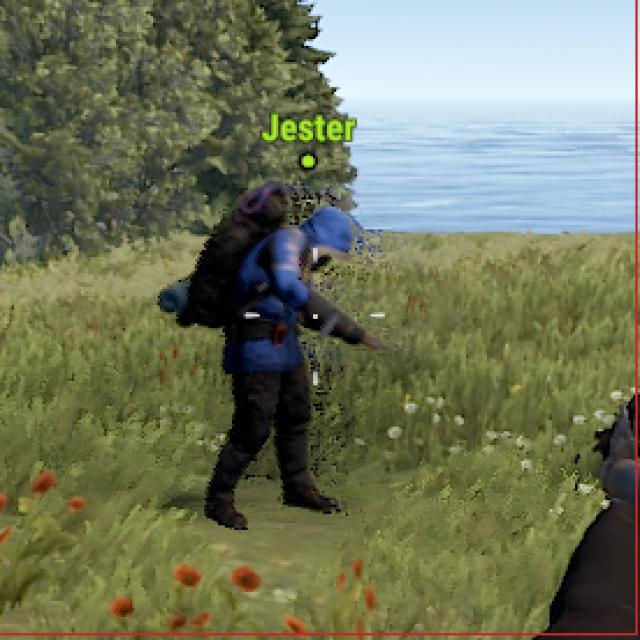Player: (161, 183, 357, 528)
